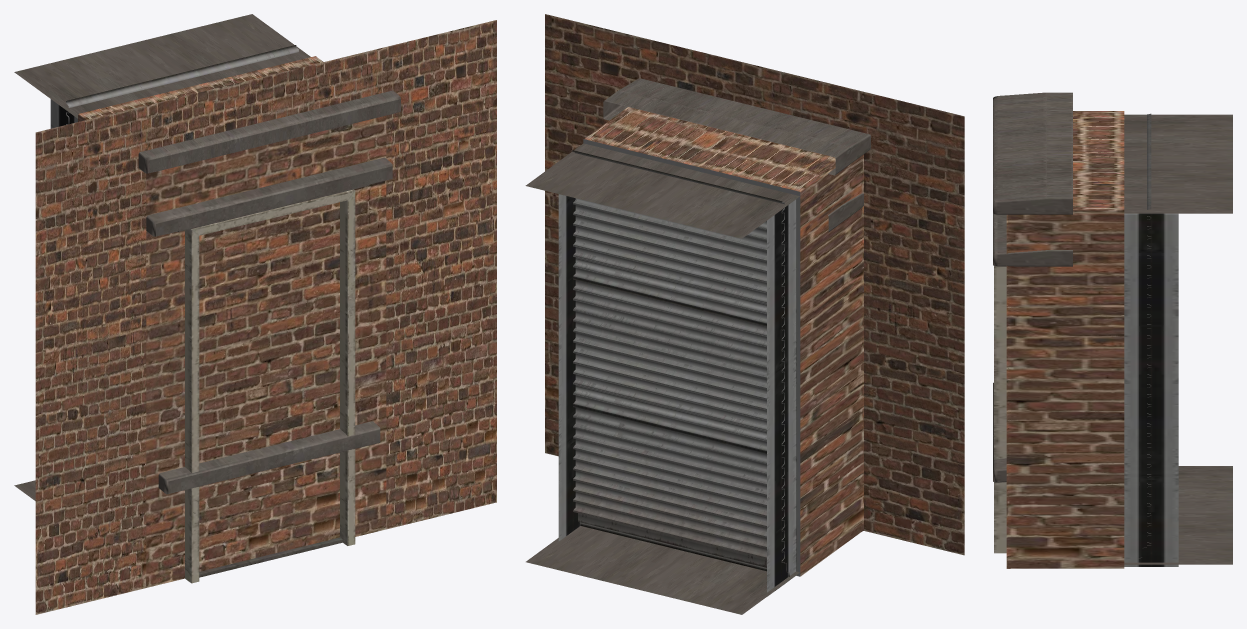
The model's file is modular_factory_facade-low.glb.
3 renders of one model, left to right at view 1: azimuth 30°, elevation 25°; view 2: azimuth 150°, elevation 25°; view 3: azimuth 270°, elevation 25°, orthographic. The views are drawn at different scales.
Visible parts, largest first — view 1: wall_door_garage_centered_01, wall_standard_standard_01, door_garage_centered_01, wall_door_centered_small_01, door, window; view 2: door_garage_centered_01, wall_window_centered_medium_01, wall_door_garage_centered_01, window; view 3: wall_door_garage_centered_01, door_garage_centered_01, door, window.
Part boxes in pixels (x1,y1,x2,y2): wall_door_garage_centered_01: (35,20,496,614); wall_standard_standard_01: (146,115,386,579); door_garage_centered_01: (14,14,400,500); wall_door_centered_small_01: (146,125,386,587); door: (177,184,369,583); window: (146,157,392,494); door_garage_centered_01: (525,78,870,614); wall_window_centered_medium_01: (545,14,964,555); wall_door_garage_centered_01: (584,107,863,576); window: (828,193,863,232); wall_door_garage_centered_01: (1006,111,1124,568); door_garage_centered_01: (993,92,1232,566); door: (994,266,1006,553); window: (993,213,1072,482).
Size of the model in its own units: 1 by 1 by 0.53.
Materials: 5 (5 with a texture image).
